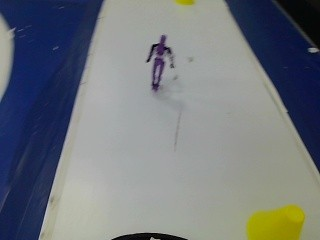cone: (242, 202, 310, 239)
pedestrian: (142, 31, 179, 93)
